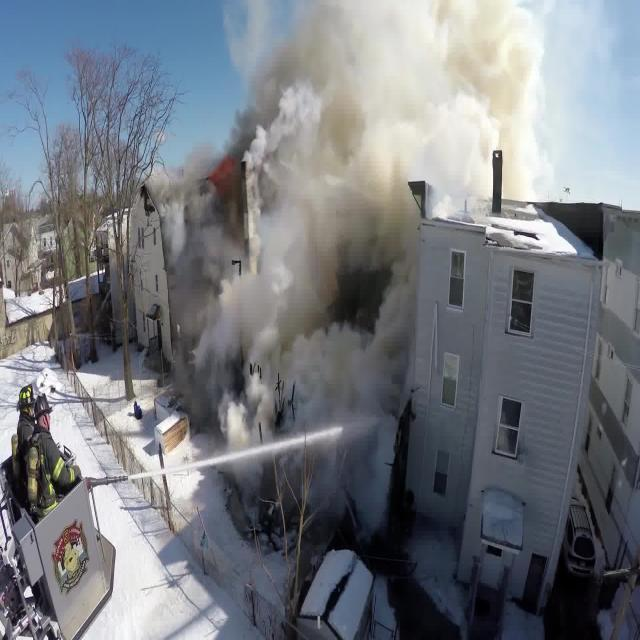Fire: (202, 146, 236, 200)
Smoke: (258, 2, 556, 186), (267, 38, 408, 373), (218, 258, 404, 508)
